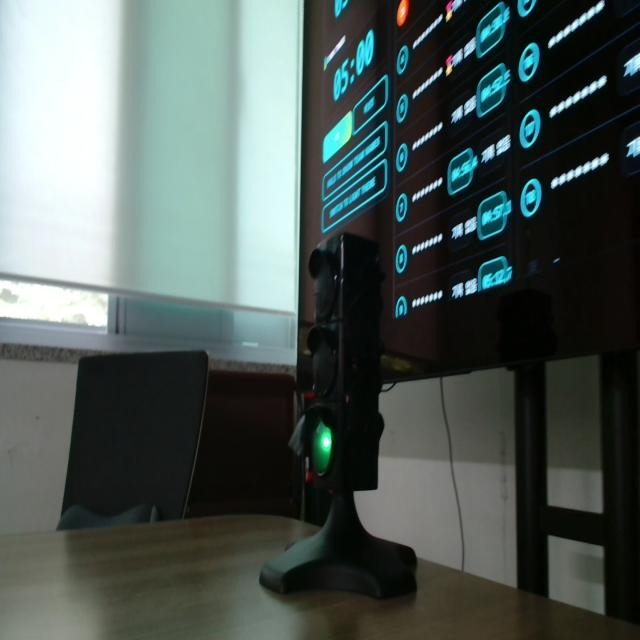green_light: (313, 422, 332, 475)
